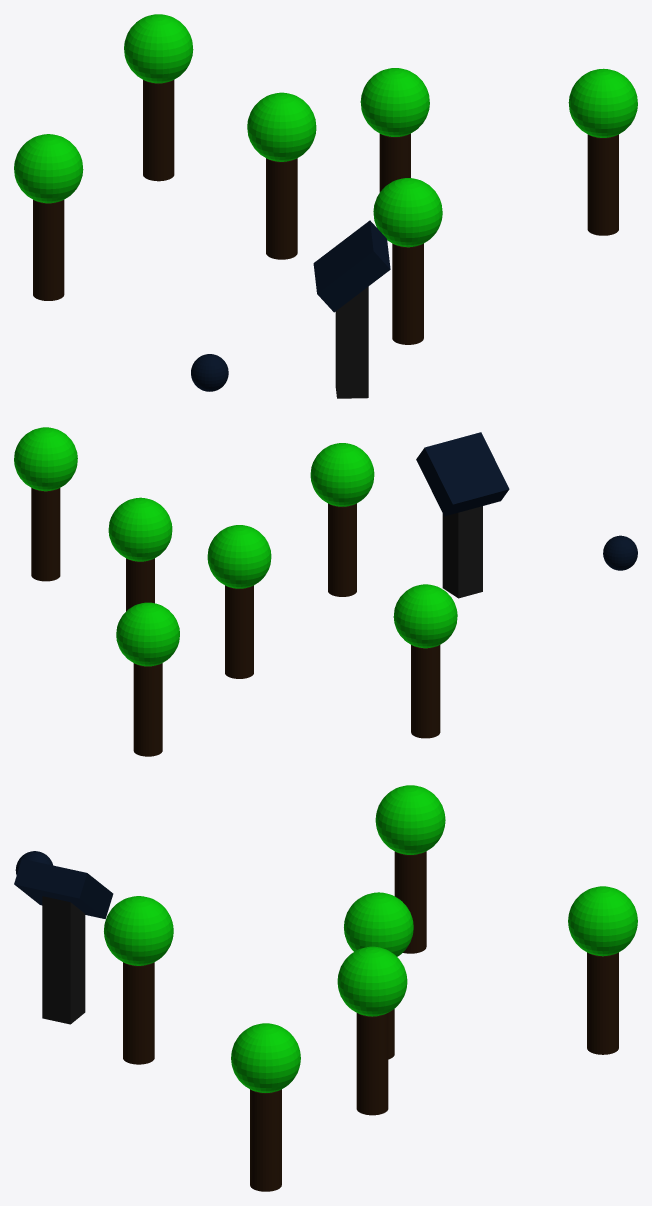
File: exercise20051.obj
3 views of the same model, one above another, from view 1: azimuth 30°, elevation 25°; view 2: azimuth 150°, elevation 25°; view 3: azimuth 270°, elevation 25° (orthographic). The views are drawn at different scales.
Parts seen in each view (by area): view 1: Cube.001, Sphere.005, Sphere.002, Sphere.006, Sphere, Sphere.003, Sphere.004, Cube, Cylinder.002, Cylinder.003, Cylinder.005, Cylinder.004 (+4 smaller); view 2: Cube.001, Cube, Sphere, Sphere.005, Sphere.006, Sphere.003, Sphere.004, Sphere.002, Cylinder.003, Cylinder.005, Cylinder.006, Cylinder.002 (+4 smaller); view 3: Cube, Sphere, Sphere.006, Sphere.004, Sphere.005, Sphere.003, Sphere.002, Cube.001, Cylinder.004, Cylinder.003, Cylinder.005, Cylinder (+2 smaller).
Boxes of the visible parts, bbox=[...] form: Cube.001: bbox=[313, 220, 390, 312]; Sphere.005: bbox=[124, 14, 193, 83]; Sphere.002: bbox=[247, 92, 316, 161]; Sphere.006: bbox=[14, 134, 83, 203]; Sphere: bbox=[360, 68, 429, 136]; Sphere.003: bbox=[568, 68, 637, 137]; Sphere.004: bbox=[373, 178, 442, 247]; Cube: bbox=[335, 286, 368, 398]; Cylinder.002: bbox=[266, 158, 297, 259]; Cylinder.003: bbox=[587, 134, 618, 235]; Cylinder.005: bbox=[143, 80, 174, 181]; Cylinder.004: bbox=[392, 243, 423, 344]; Cube.001: bbox=[416, 432, 509, 516]; Cube: bbox=[442, 506, 482, 598]; Sphere: bbox=[108, 497, 172, 561]; Sphere.005: bbox=[116, 602, 179, 666]; Sphere.006: bbox=[393, 584, 457, 648]; Sphere.003: bbox=[14, 427, 77, 491]; Sphere.004: bbox=[310, 443, 374, 506]; Sphere.002: bbox=[207, 525, 271, 588]; Cylinder.003: bbox=[31, 488, 60, 581]; Cylinder.005: bbox=[133, 663, 162, 756]; Cylinder.006: bbox=[411, 645, 440, 738]; Cylinder.002: bbox=[225, 585, 253, 678]; Cube: bbox=[42, 896, 85, 1024]; Sphere: bbox=[337, 946, 407, 1016]; Sphere.006: bbox=[375, 785, 445, 854]; Sphere.004: bbox=[104, 896, 173, 965]; Sphere.005: bbox=[568, 886, 637, 956]; Sphere.003: bbox=[231, 1023, 300, 1092]; Sphere.002: bbox=[344, 892, 413, 956]; Cube.001: bbox=[14, 859, 113, 919]; Cylinder.004: bbox=[123, 962, 154, 1064]; Cylinder.003: bbox=[250, 1089, 281, 1191]; Cylinder.005: bbox=[587, 952, 618, 1054]; Cylinder: bbox=[356, 1013, 388, 1114].
Size of what is drawn, in the model's own units: 40.53 by 11.23 by 39.13.
